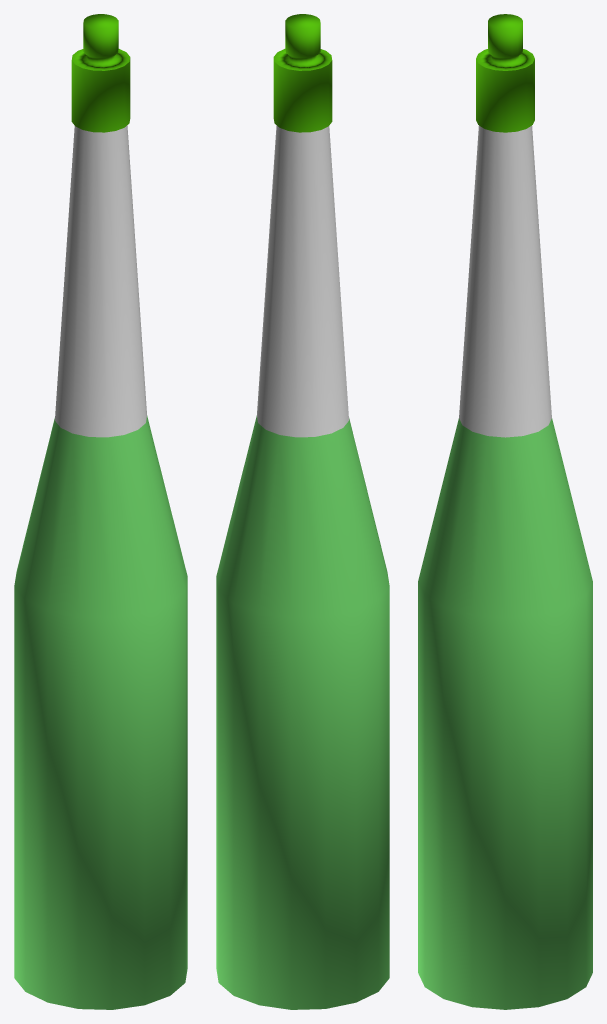
Rendered from Item.fbx.
The picture shows the model from 3 angles, left to right: view 1: azimuth 30°, elevation 25°; view 2: azimuth 150°, elevation 25°; view 3: azimuth 270°, elevation 25°; orthographic projection.
Visible parts, largest first — view 1: Iteem; view 2: Iteem; view 3: Iteem.
Boxes of the visible parts, x1,y1,x2,y2 form: Iteem: (14, 14, 187, 1009); Iteem: (216, 14, 389, 1009); Iteem: (418, 14, 592, 1009).
Bounding box in the file's own units: 200 × 1202 × 200.
